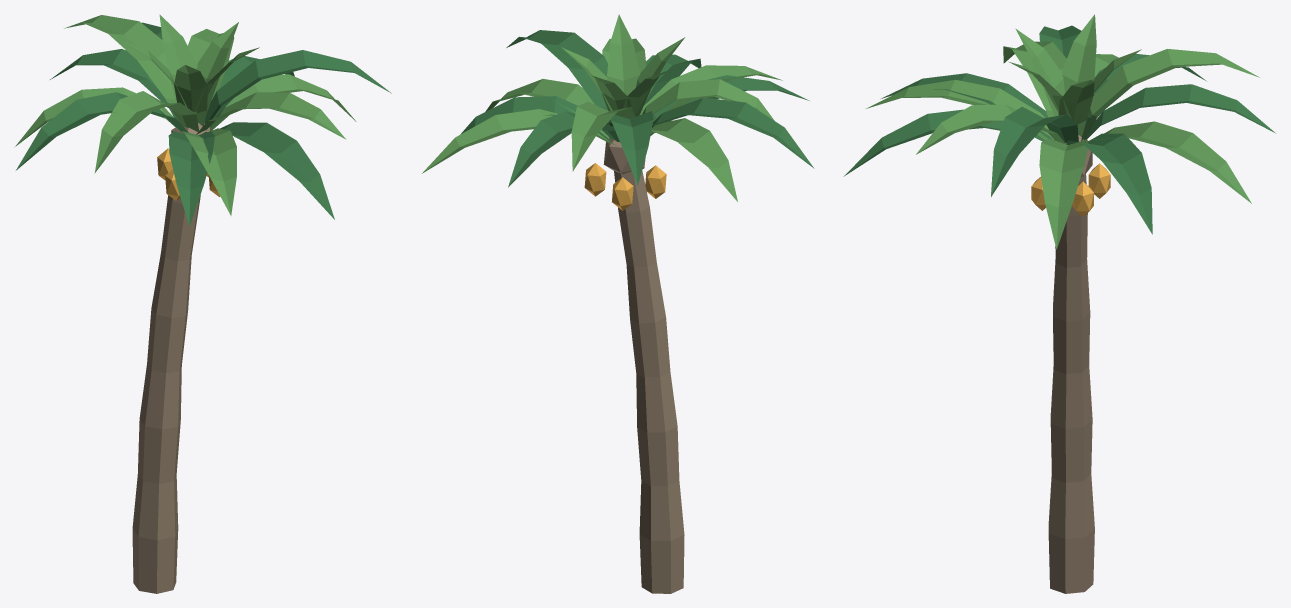
File: palm.glb
3 renders of one model, left to right at view 1: azimuth 30°, elevation 25°; view 2: azimuth 150°, elevation 25°; view 3: azimuth 270°, elevation 25°, orthographic. The views are drawn at different scales.
Visible parts, largest first — view 1: SG_Palm; view 2: SG_Palm; view 3: SG_Palm.
Part boxes in pixels (x1,y1,x2,y2): SG_Palm: (14,14,391,593); SG_Palm: (422,14,814,593); SG_Palm: (843,14,1276,593).
Bounding box in the file's own units: 5.45 × 8.15 × 5.7.
